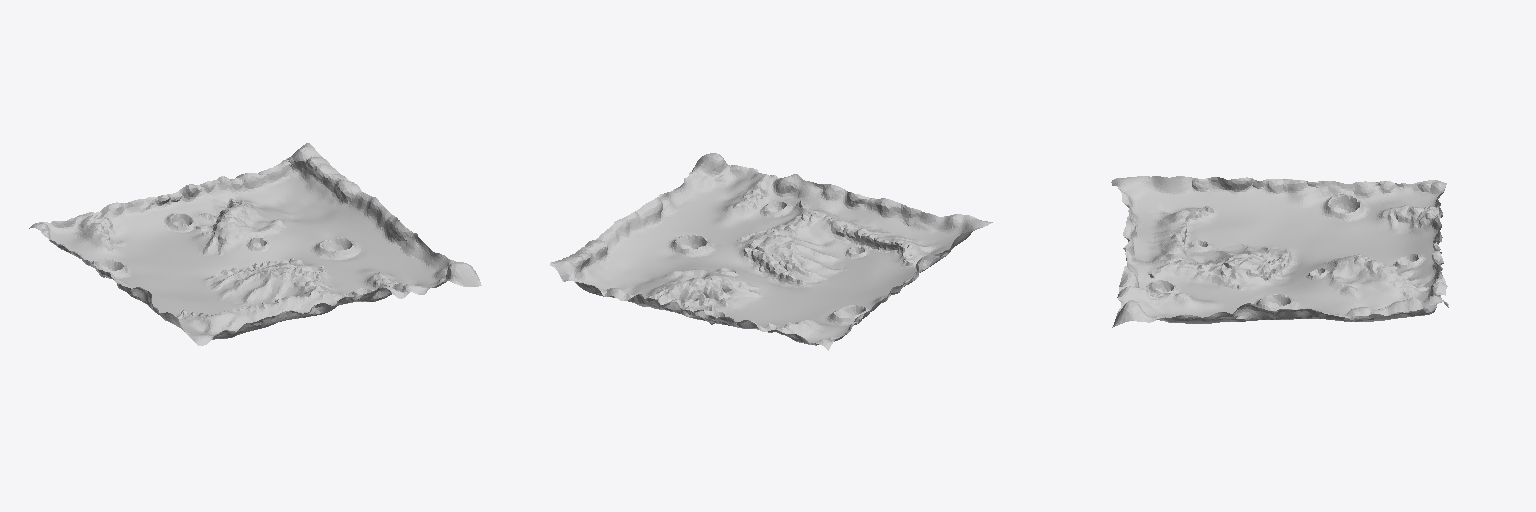
File: 30k -- To Unity.obj
The picture shows the model from 3 angles: view 1: azimuth 30°, elevation 25°; view 2: azimuth 150°, elevation 25°; view 3: azimuth 270°, elevation 25°; orthographic projection.
Visible parts, largest first — view 1: Terrain_30K_B; view 2: Terrain_30K_B; view 3: Terrain_30K_B.
Part boxes in pixels (bbox=[...]): Terrain_30K_B: bbox=[29, 143, 481, 345]; Terrain_30K_B: bbox=[550, 153, 992, 350]; Terrain_30K_B: bbox=[1111, 176, 1448, 327].
Size of the model in its own units: 707 by 98.42 by 718.